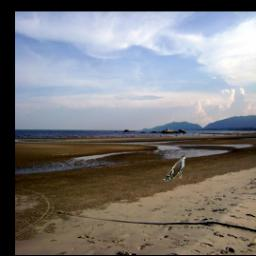Cuckoo: (163, 155, 185, 183)
